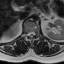CCS_normal: (30, 29, 33, 40)
LFS_normal: (35, 29, 37, 37)
LLS_normal: (33, 29, 35, 38)
RFS_normal: (25, 30, 27, 38)
RLS_normal: (27, 29, 30, 38)
